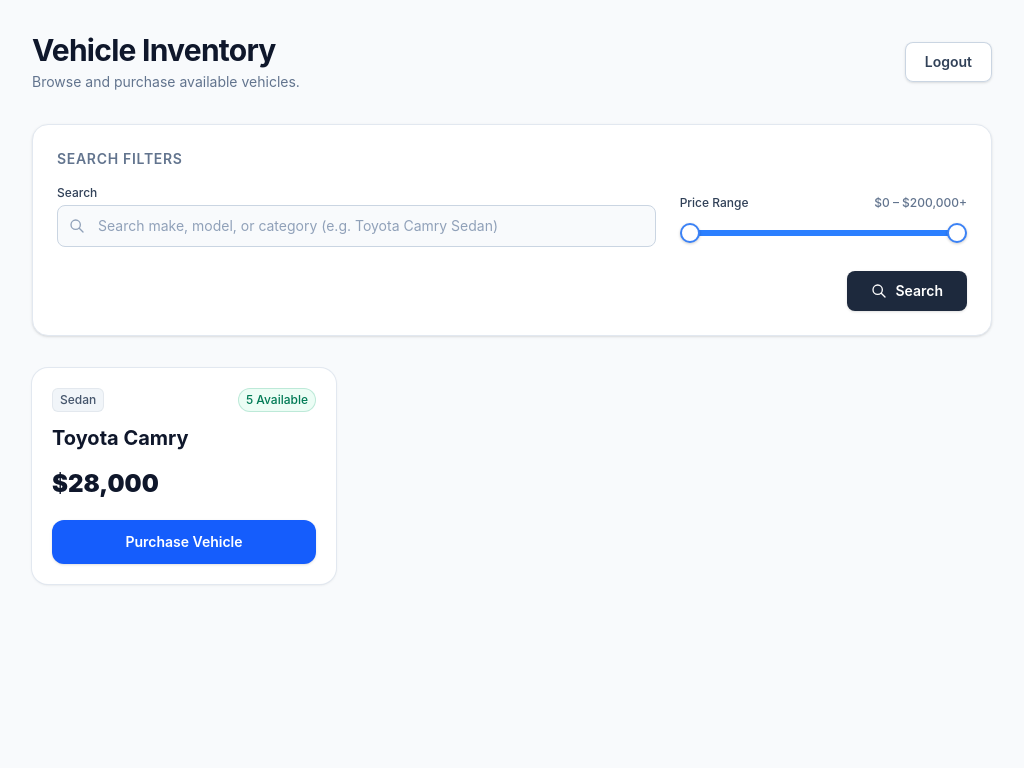
Scenario: Dashboard › shows an error when purchasing an out-of-stock vehicle
Click the button "Purchase Vehicle". click: (184,542)
box: [52, 520, 316, 564]
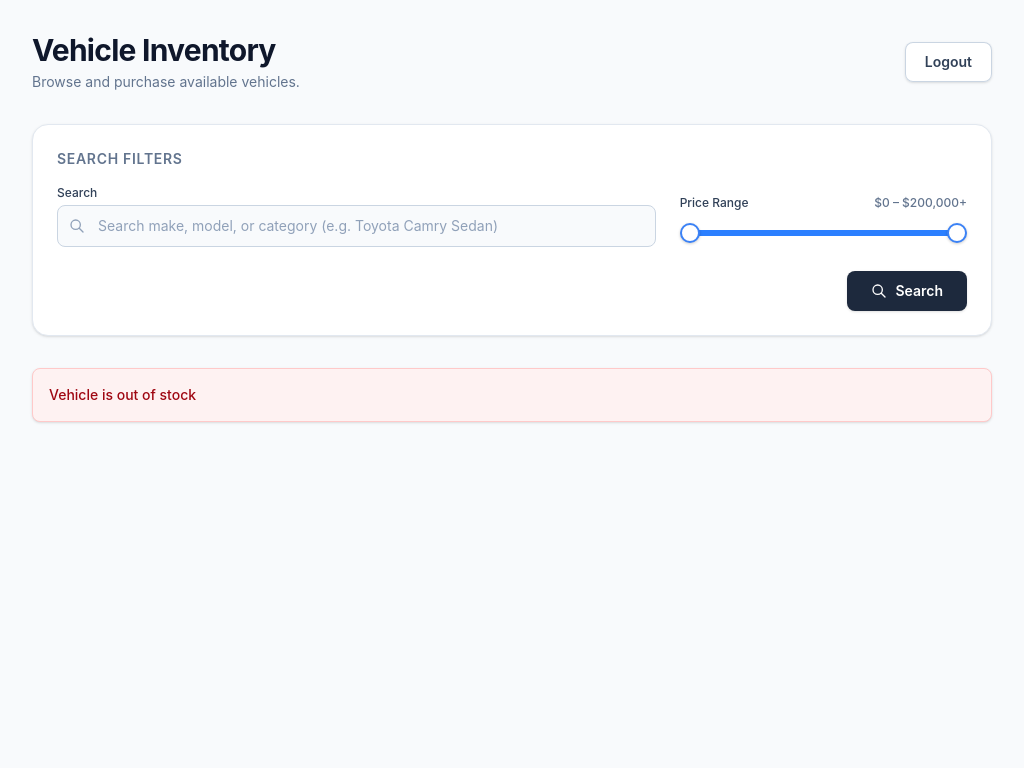
Now the text "Vehicle is out of stock" is shown, box [32, 368, 992, 422]
